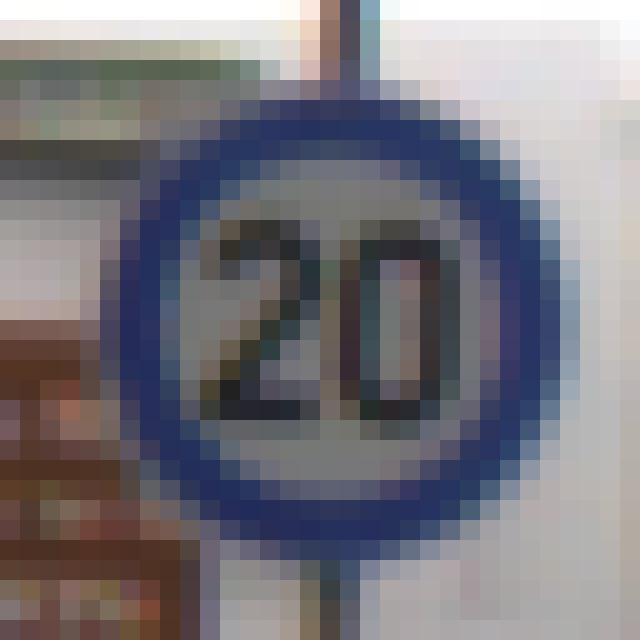SPEED LIMIT 20: (77, 97, 577, 539)
